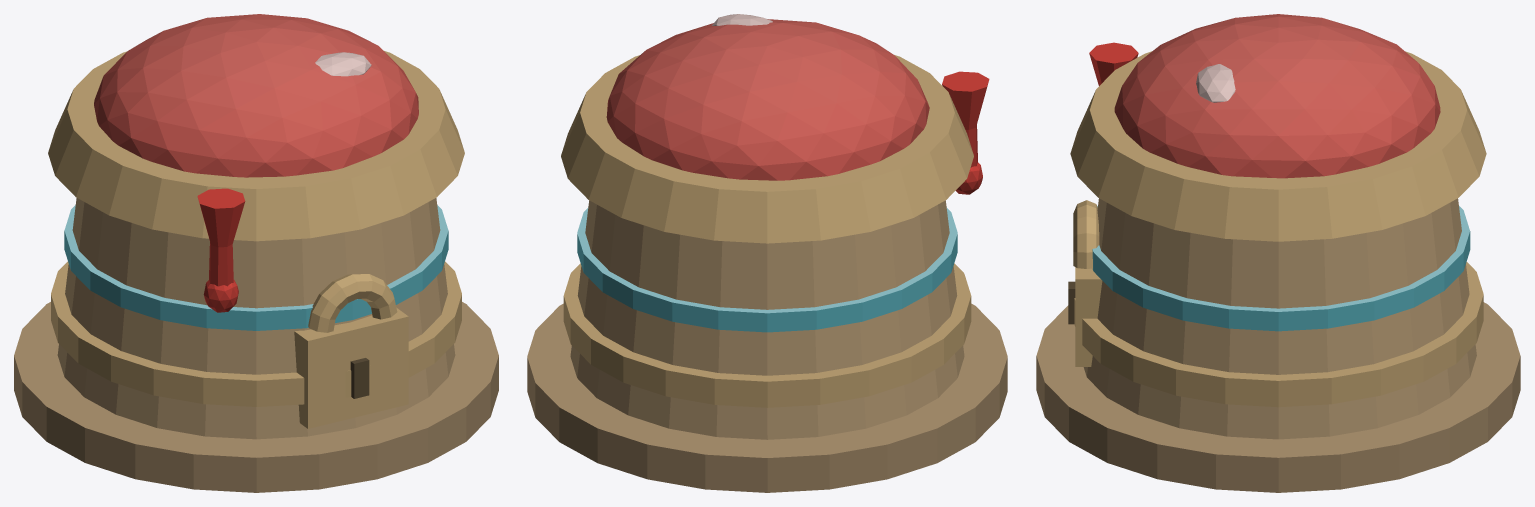
File: goo_lock_button@beach.fbx
The picture shows the model from 3 angles, left to right: view 1: azimuth 30°, elevation 25°; view 2: azimuth 150°, elevation 25°; view 3: azimuth 270°, elevation 25°; orthographic projection.
Parts seen in each view (by area): view 1: goo_lock_button; view 2: goo_lock_button; view 3: goo_lock_button.
Boxes of the visible parts, bbox=[...] form: goo_lock_button: bbox=[14, 14, 498, 492]; goo_lock_button: bbox=[527, 14, 1007, 492]; goo_lock_button: bbox=[1036, 14, 1520, 492].
Size of the model in its own units: 5 by 3.97 by 5.
